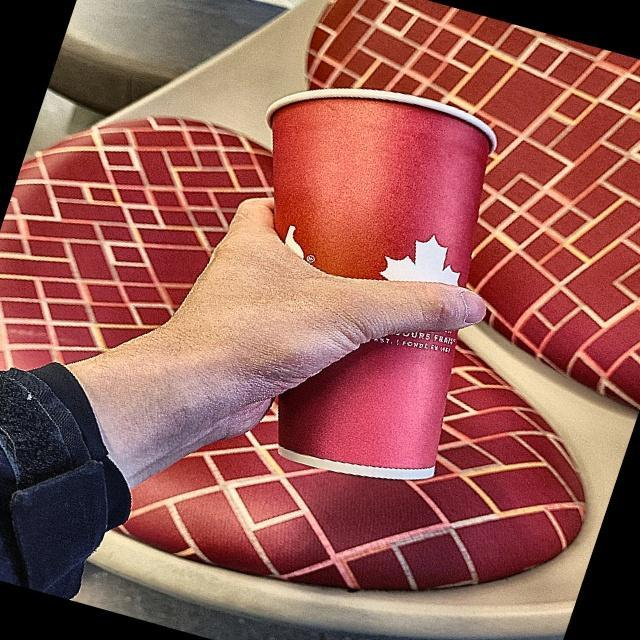timmies: (154, 54, 556, 508)
